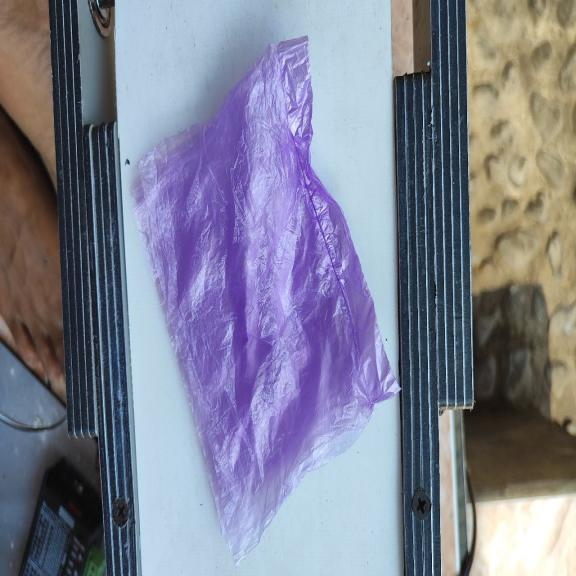Plastik: (132, 35, 400, 570)
